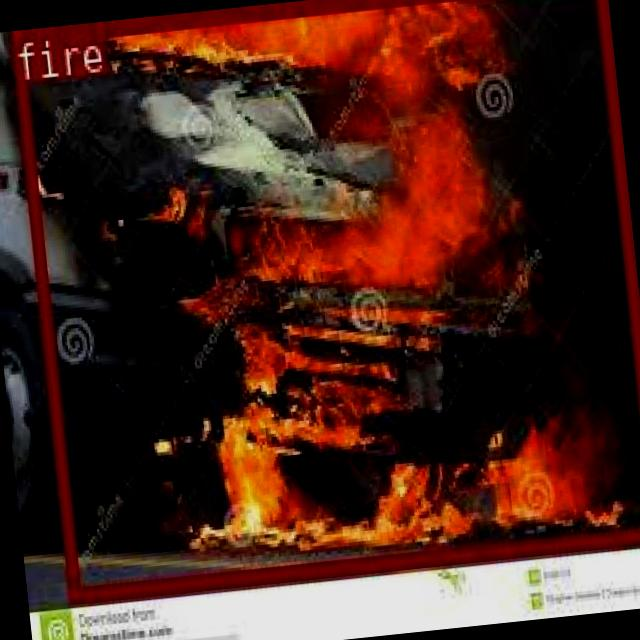fire: (7, 0, 640, 598)
